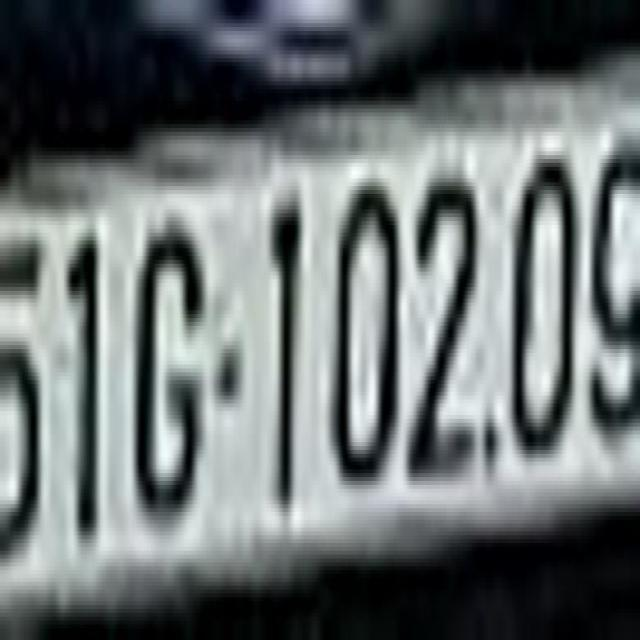0: (332, 140, 400, 524), (509, 100, 577, 473)
1: (63, 170, 109, 582), (260, 163, 309, 539)
2: (412, 124, 480, 512)
5: (0, 202, 37, 590)
9: (589, 86, 639, 473)
G: (132, 182, 201, 543)
